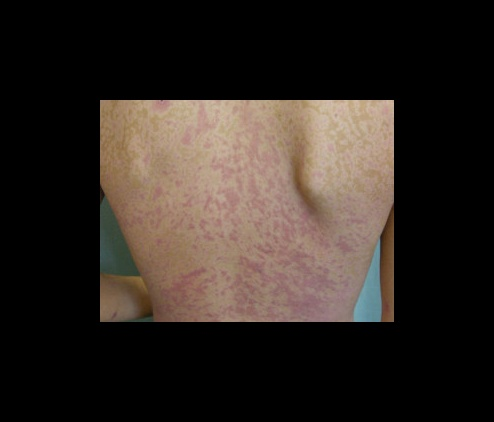SJS-TEN: (97, 101, 397, 321)
